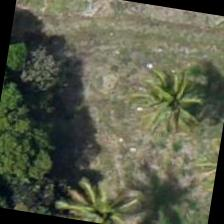Kelapa_Sawit: (123, 54, 223, 158), (52, 160, 151, 223)
